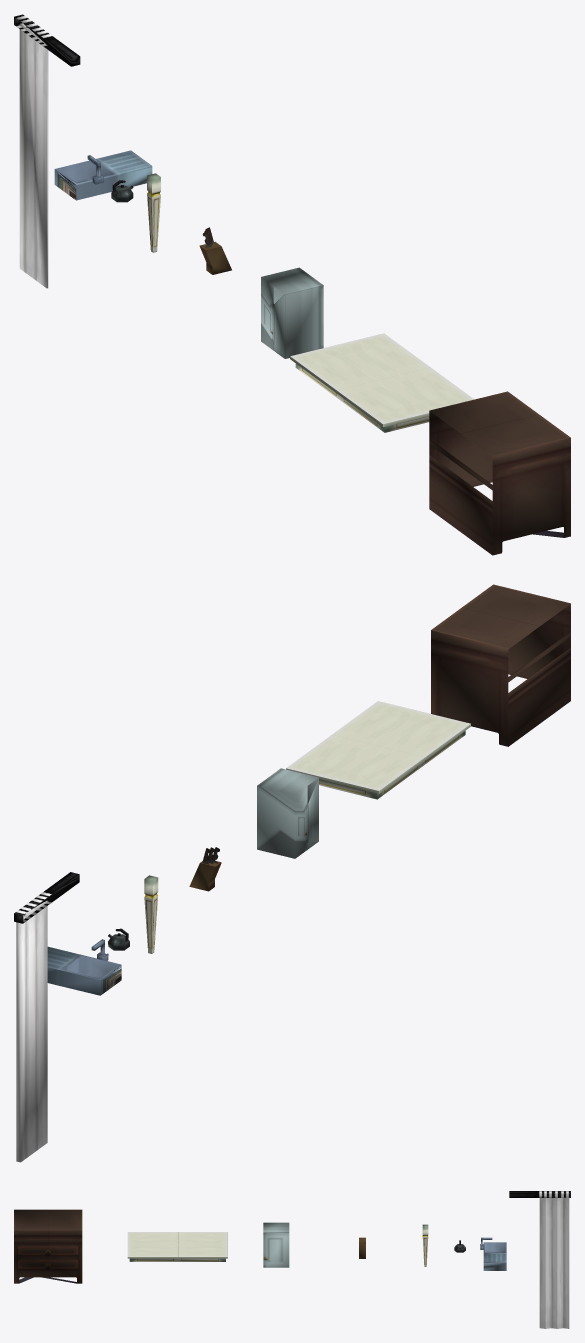
Rendered from furniture.fbx.
3 renders of one model, top to bottom at view 1: azimuth 30°, elevation 25°; view 2: azimuth 150°, elevation 25°; view 3: azimuth 270°, elevation 25°, orthographic. The views are drawn at different scales.
Parts seen in each view (by area): view 1: Nightstand, Table, Curtain, Kitchen_Cabinet.001, Faucet, Table_Leg, Knives; view 2: Nightstand, Table, Curtain, Kitchen_Cabinet.001, Faucet, Table_Leg, Knives; view 3: Nightstand, Curtain, Table, Kitchen_Cabinet.001, Faucet, Table_Leg.
Boxes of the visible parts, left/top/right/bottom form: Nightstand: left=429, top=391, right=570, bottom=555; Table: left=290, top=333, right=474, bottom=432; Curtain: left=14, top=14, right=80, bottom=288; Kitchen_Cabinet.001: left=261, top=267, right=323, bottom=358; Faucet: left=54, top=150, right=152, bottom=200; Table_Leg: left=147, top=173, right=160, bottom=252; Knives: left=199, top=227, right=231, bottom=274; Nightstand: left=431, top=584, right=570, bottom=746; Table: left=286, top=701, right=470, bottom=799; Curtain: left=14, top=872, right=79, bottom=1162; Kitchen_Cabinet.001: left=257, top=768, right=318, bottom=858; Faucet: left=47, top=939, right=121, bottom=995; Table_Leg: left=144, top=875, right=158, bottom=953; Knives: left=189, top=847, right=221, bottom=891; Nightstand: left=14, top=1209, right=82, bottom=1283; Curtain: left=509, top=1191, right=570, bottom=1328; Table: left=127, top=1232, right=227, bottom=1261; Kitchen_Cabinet.001: left=263, top=1222, right=289, bottom=1267; Faucet: left=480, top=1237, right=506, bottom=1270; Table_Leg: left=422, top=1224, right=428, bottom=1266.
Size of the model in its own units: 0.7782 by 1.88 by 7.
